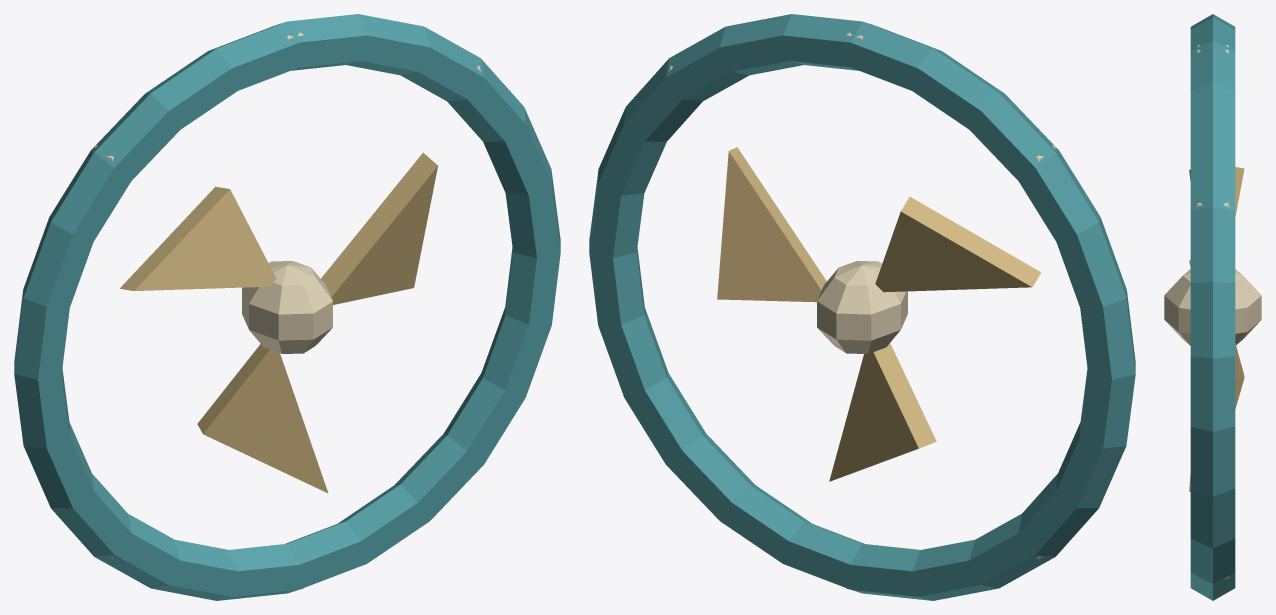
Rendered from marine-power-0.glb.
3 renders of one model, left to right at view 1: azimuth 30°, elevation 25°; view 2: azimuth 150°, elevation 25°; view 3: azimuth 270°, elevation 25°, orthographic. The views are drawn at different scales.
Visible parts, largest first — view 1: marine-power-0; view 2: marine-power-0; view 3: marine-power-0.
Part boxes in pixels (bbox=[...]): marine-power-0: bbox=[14, 14, 560, 600]; marine-power-0: bbox=[589, 14, 1135, 600]; marine-power-0: bbox=[1164, 14, 1261, 600].
Bounding box in the file's own units: 2.3 × 2.3 × 0.3804.
